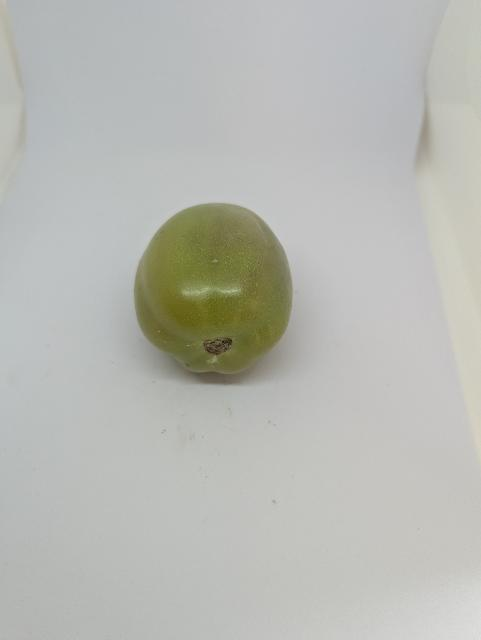green: (114, 191, 306, 389)
